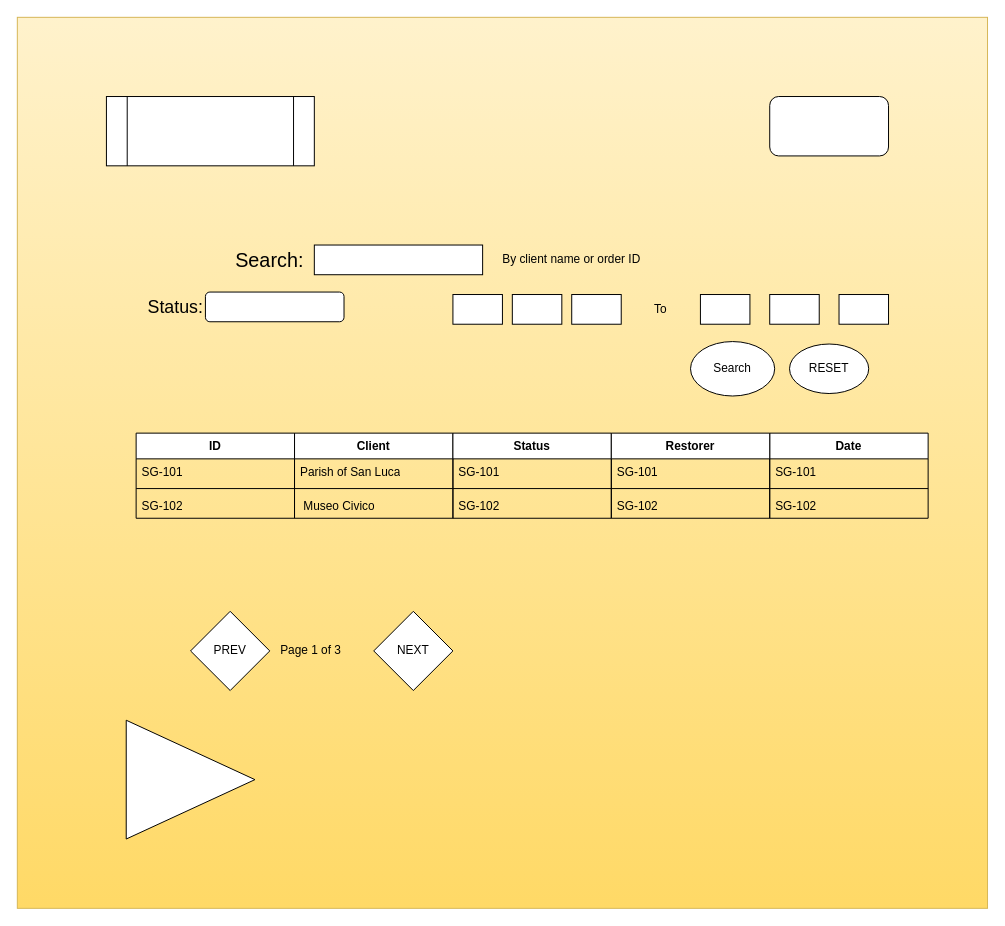
Image size: 1005x926. Some labels were removed from this diagram. Here are the shapes that lost their labels. From the top down, the centre of each, then its label:
[209,131]: GAMBERINI RESTORATION SYSTEM
[829,126]: LOG OUT
[190,779]: + NEW ORDER
